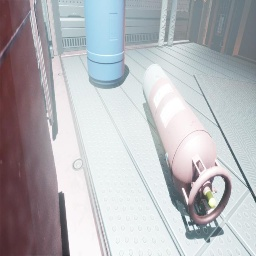NitrogenTank ,: (142, 64, 232, 225)
